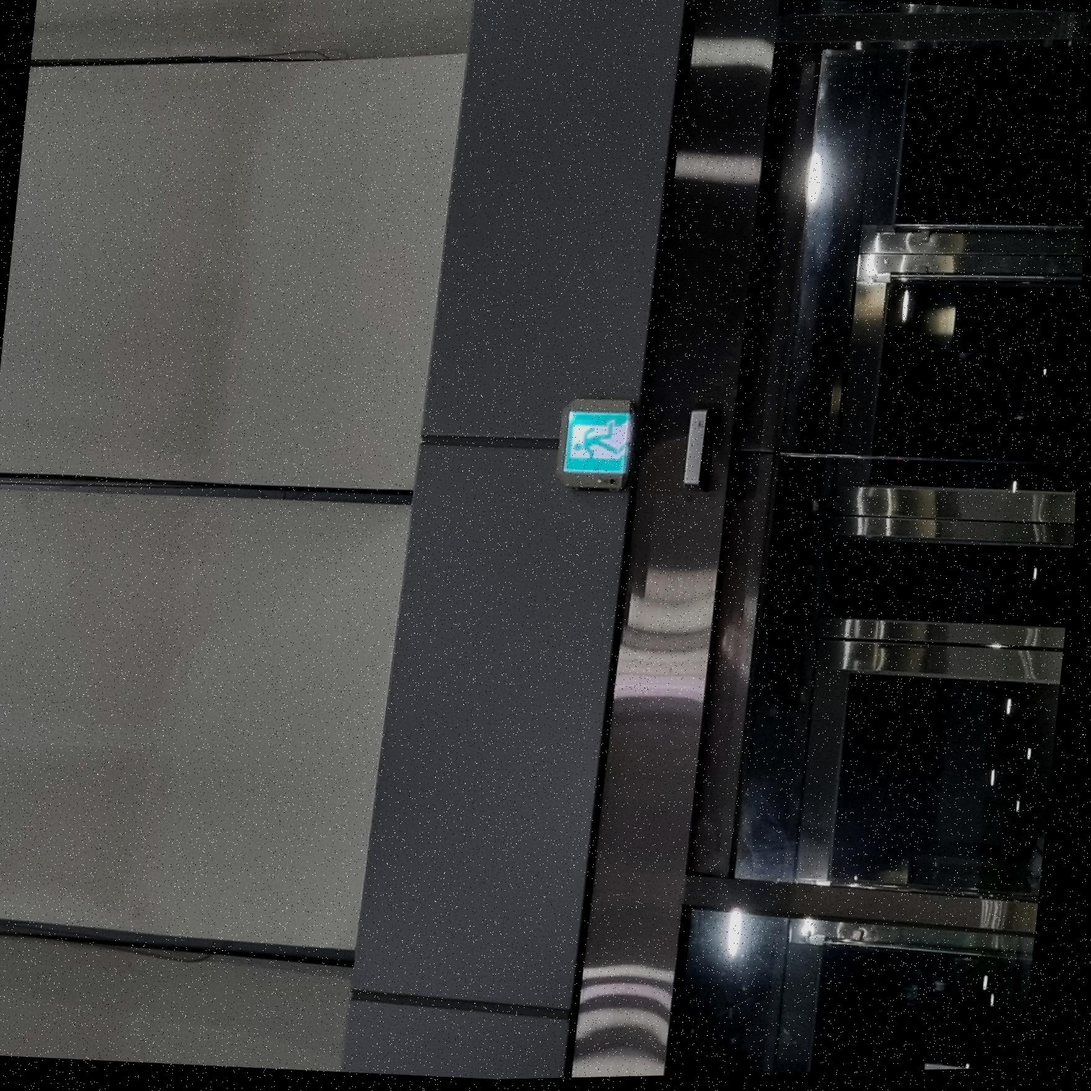emergency_exit: (555, 398, 636, 490)
